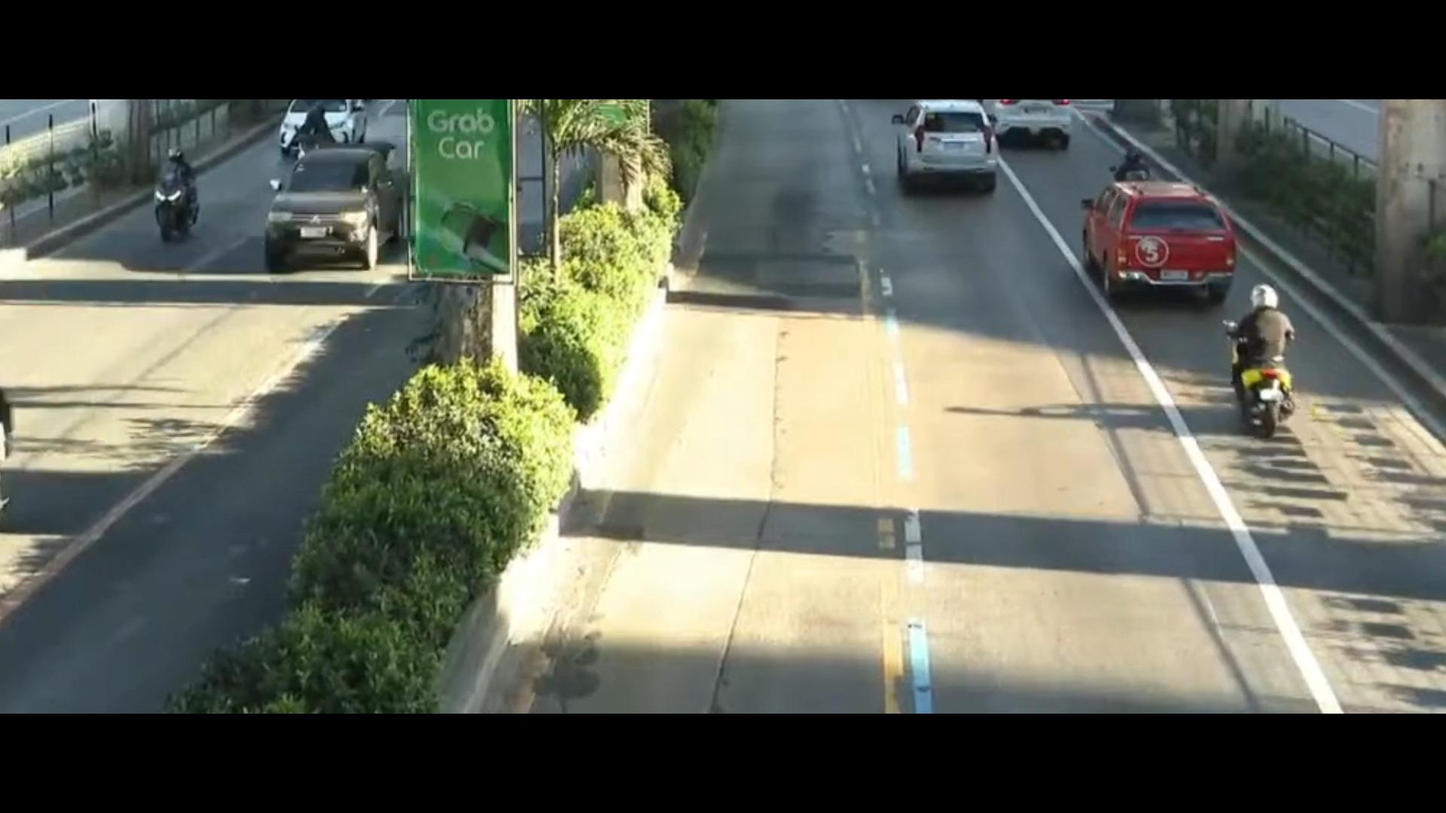Motorcycle: (1206, 268, 1322, 446), (134, 136, 213, 250), (296, 98, 345, 173), (1108, 142, 1168, 190)
Pickup: (245, 138, 415, 283)
SUV: (1081, 158, 1239, 318), (876, 104, 1015, 218)
